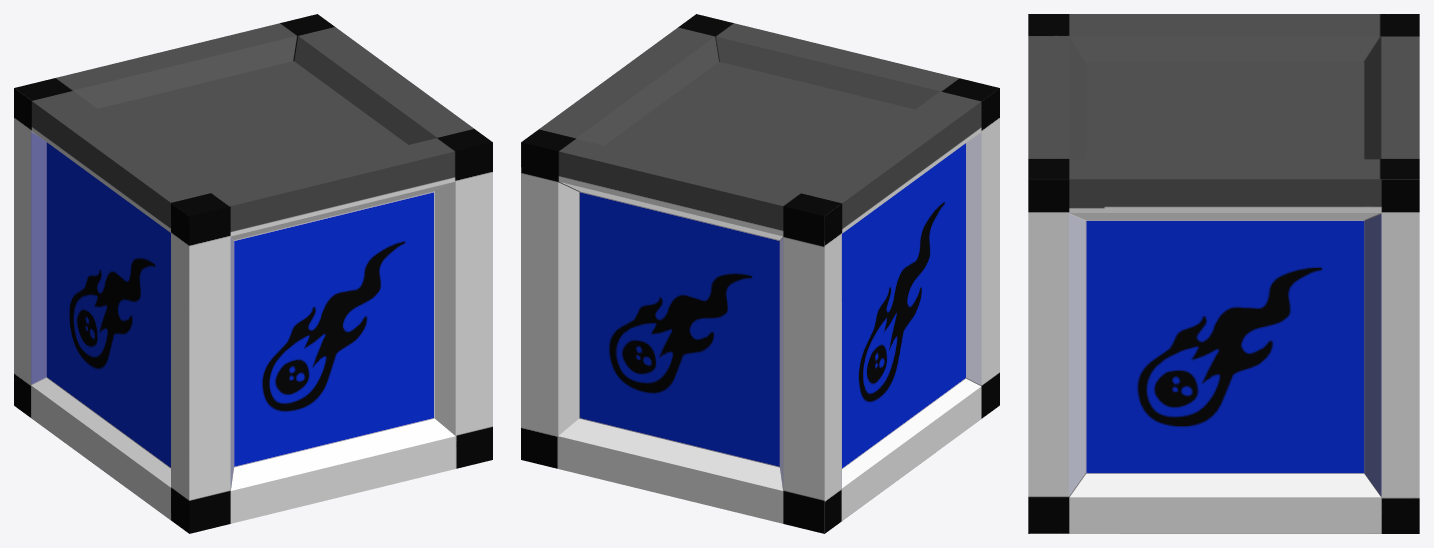
Rendered from Crate_Moonrock_Refined.obj.
3 views of the same model, side by side, from view 1: azimuth 30°, elevation 25°; view 2: azimuth 150°, elevation 25°; view 3: azimuth 270°, elevation 25° (orthographic). The views are drawn at different scales.
Visible parts, largest first — view 1: Crate:pCube2 Crate:polySurface2 Base_Crate; view 2: Crate:pCube2 Crate:polySurface2 Base_Crate; view 3: Crate:pCube2 Crate:polySurface2 Base_Crate.
Boxes of the visible parts, x1,y1,x2,y2 form: Crate:pCube2 Crate:polySurface2 Base_Crate: (14, 14, 492, 533); Crate:pCube2 Crate:polySurface2 Base_Crate: (521, 14, 999, 533); Crate:pCube2 Crate:polySurface2 Base_Crate: (1028, 14, 1419, 533).
Size of the model in its own units: 1 by 1 by 1.
